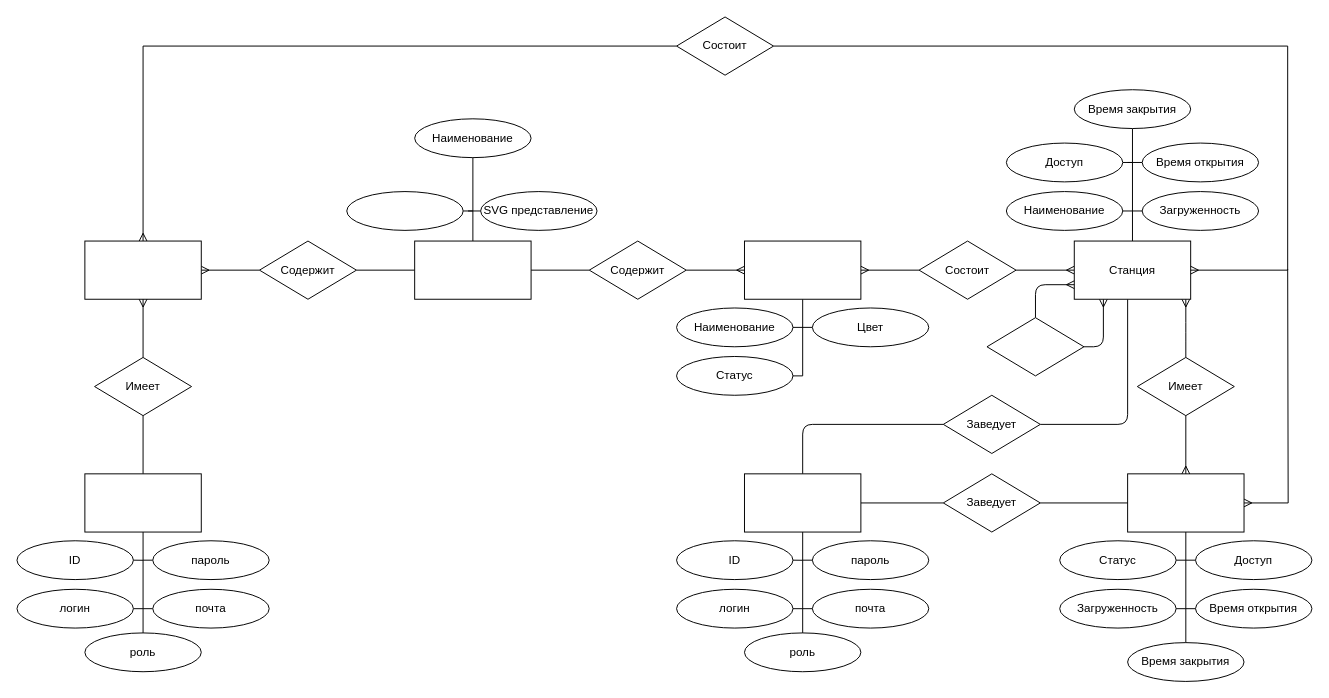
This 1329x698 diagram has some shape labels left out. The shapes that lost their labels are listed below. From the top down, each one's centre as x and y in pixels, then its label:
At pixel 404 210: "Город".
At pixel 142 269: "Маршрут".
At pixel 472 269: "Схема метро".
At pixel 802 269: "Ветка".
At pixel 1035 346: "Ведет".
At pixel 142 502: "Пользователь".
At pixel 802 502: "Дежурный".
At pixel 1185 502: "Переход".
